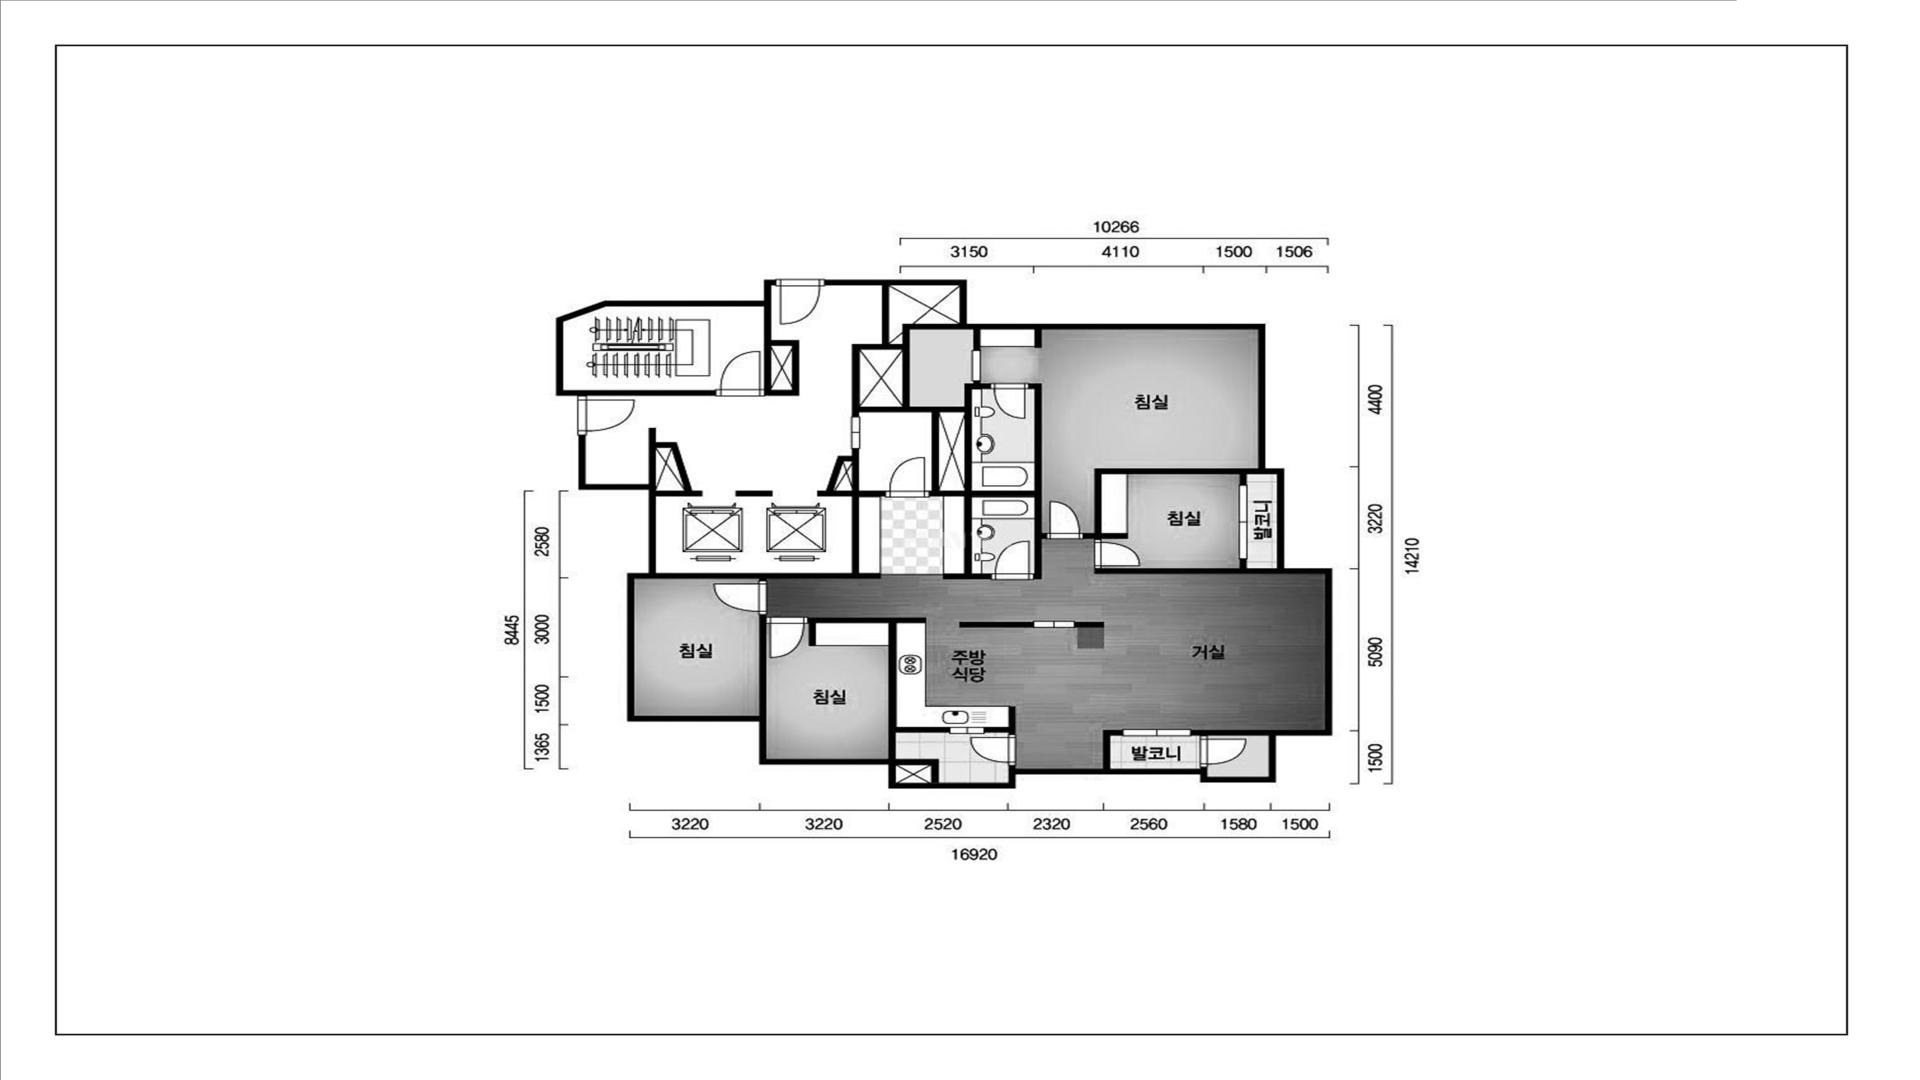door: (775, 278, 827, 326), (578, 396, 636, 436), (715, 351, 764, 396), (712, 580, 767, 616), (885, 456, 930, 497), (766, 616, 808, 658), (990, 541, 1035, 580), (969, 735, 1017, 767), (1200, 736, 1247, 769), (1046, 500, 1084, 539), (990, 382, 1030, 419), (1093, 539, 1141, 568), (851, 417, 861, 450), (972, 349, 981, 381), (1033, 621, 1076, 628)
wall: (578, 280, 1332, 789), (556, 280, 775, 396), (808, 617, 949, 758), (972, 384, 1046, 579), (1084, 468, 1258, 538), (852, 285, 903, 417), (943, 496, 990, 579), (649, 427, 703, 496), (765, 306, 799, 396), (1095, 560, 1276, 574), (818, 450, 858, 497), (771, 340, 799, 390), (895, 760, 939, 783), (985, 705, 1015, 735), (1102, 729, 1122, 769), (964, 381, 990, 406), (760, 616, 766, 715), (931, 411, 939, 491), (1192, 729, 1269, 736), (960, 622, 1033, 628), (736, 491, 773, 496), (1076, 622, 1104, 628), (973, 330, 980, 349), (1035, 330, 1042, 348), (860, 574, 881, 579), (1009, 766, 1015, 769)
window: (1238, 484, 1247, 559), (1122, 728, 1192, 737), (949, 727, 985, 735)
